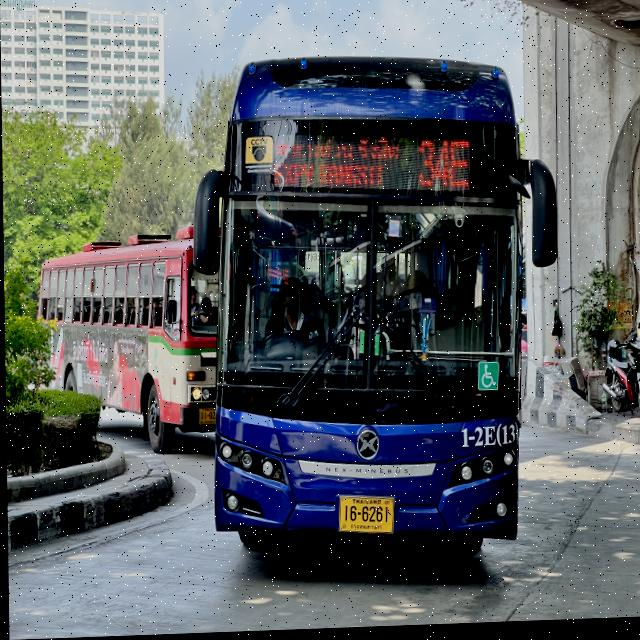BMTA-bus: (29, 224, 223, 462)
Bus Line Number: (413, 135, 473, 199)
Bus Side Number: (456, 424, 517, 454)
Destination Sign: (268, 129, 404, 204)
TSB-Bus: (204, 42, 527, 566)
